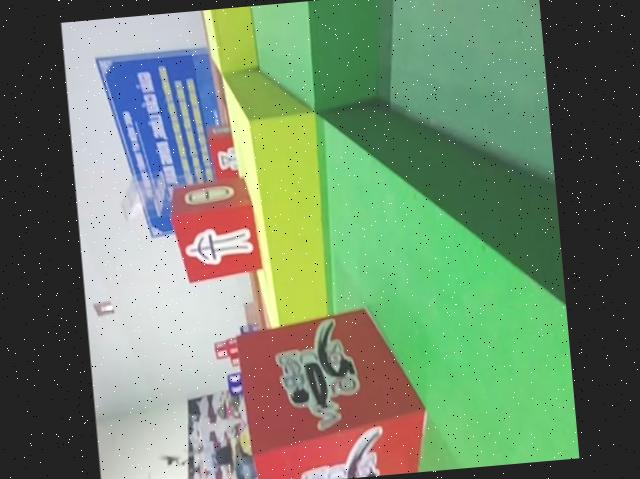R1: (231, 297, 433, 479)
R2 Fake: (163, 171, 267, 284)
